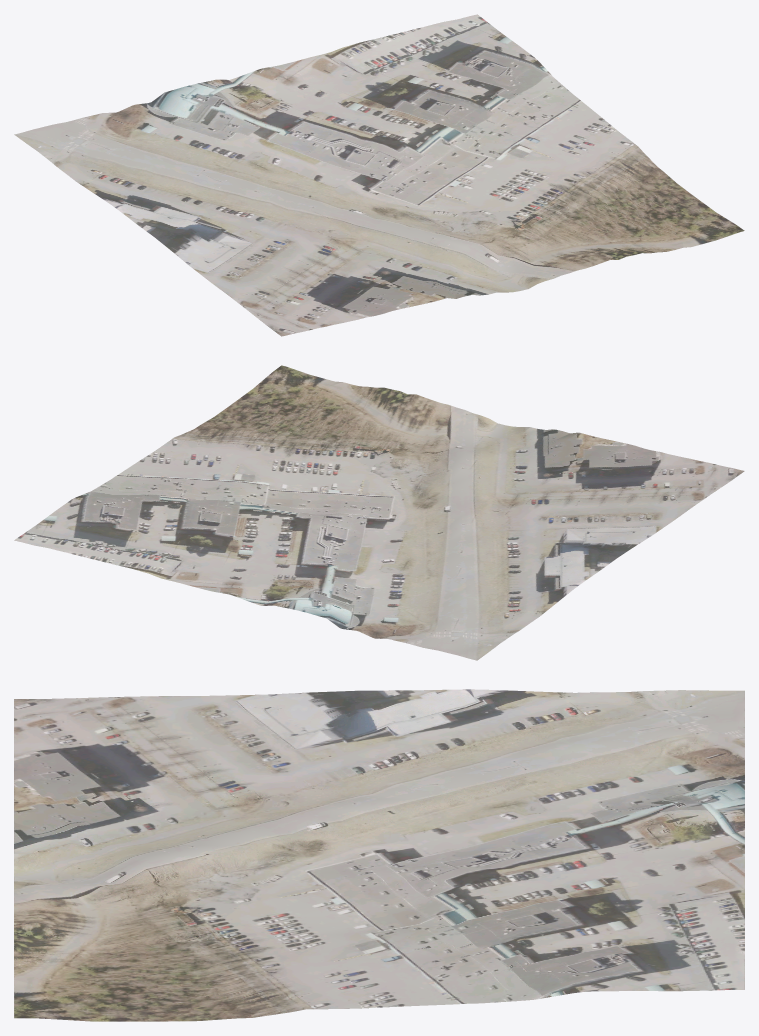
File: CM_Terrain_24492302_6815084.fbx
3 renders of one model, top to bottom at view 1: azimuth 30°, elevation 25°; view 2: azimuth 150°, elevation 25°; view 3: azimuth 270°, elevation 25°, orthographic. The views are drawn at different scales.
Parts seen in each view (by area): view 1: CM_Terrain_24492302_6815084_LOD0; view 2: CM_Terrain_24492302_6815084_LOD0; view 3: CM_Terrain_24492302_6815084_LOD0.
Part boxes in pixels (<box>): CM_Terrain_24492302_6815084_LOD0: <box>14,14,744,336</box>; CM_Terrain_24492302_6815084_LOD0: <box>14,365,744,660</box>; CM_Terrain_24492302_6815084_LOD0: <box>14,689,744,1021</box>.
Size of what is drawn, in the model's own units: 205 by 11.71 by 205.
